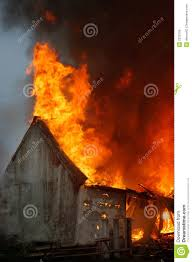fire: (19, 44, 172, 239)
